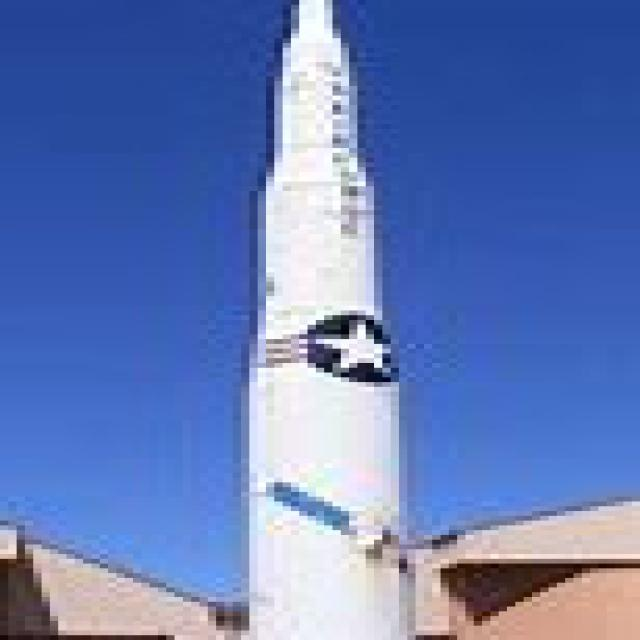missile: (245, 2, 404, 640)
